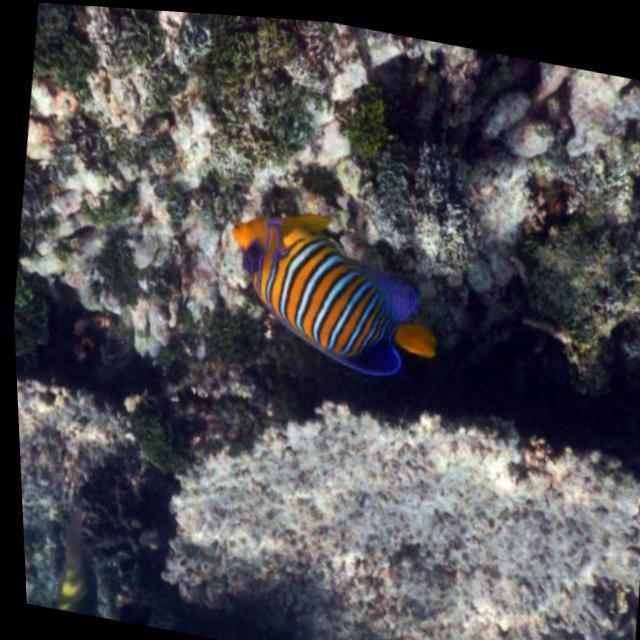Dead Coral: (136, 335, 626, 640)
